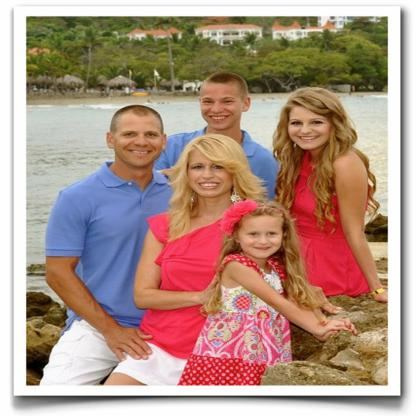face: (116, 113, 164, 168), (189, 149, 233, 198), (240, 216, 284, 258), (289, 108, 333, 149), (201, 87, 241, 132)
